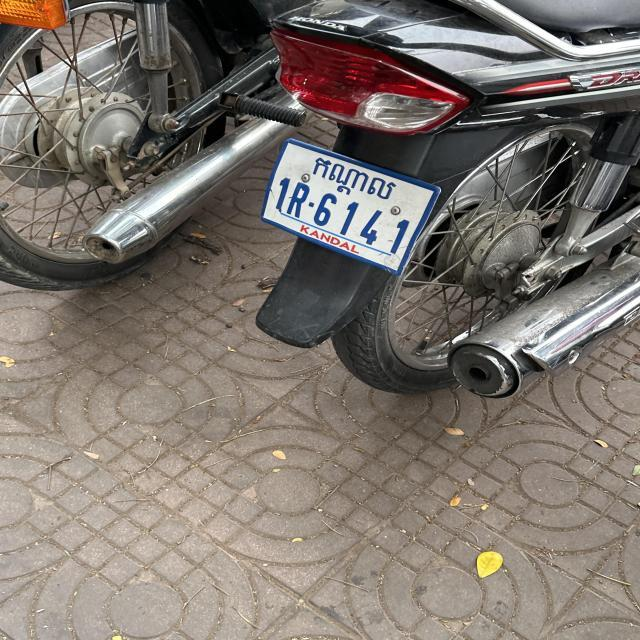Kandal: (312, 156, 396, 200)
